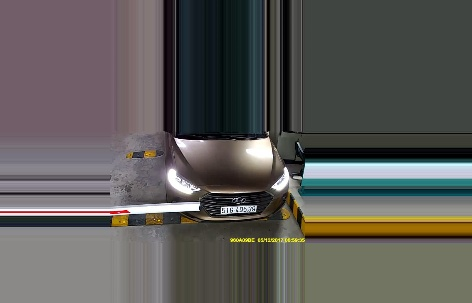plate: (221, 203, 256, 215)
